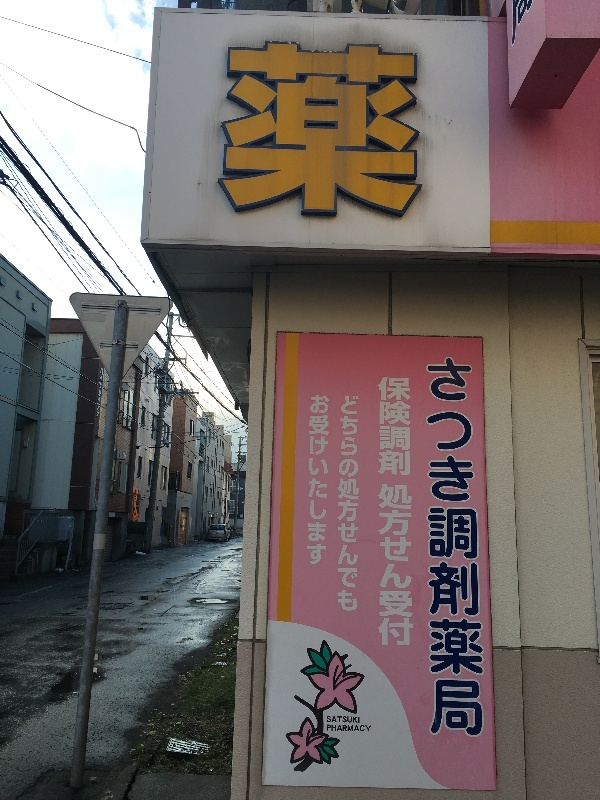text: (385, 377, 400, 648), (401, 377, 413, 648), (225, 41, 240, 219), (241, 41, 256, 219), (257, 41, 272, 219), (273, 41, 288, 219), (289, 41, 304, 219), (305, 41, 320, 219), (321, 41, 336, 219), (337, 41, 352, 219), (353, 41, 368, 219), (369, 41, 384, 219), (385, 41, 400, 219), (401, 41, 416, 219), (340, 396, 352, 613), (310, 394, 320, 565), (378, 377, 384, 648), (321, 394, 330, 565), (353, 396, 360, 613), (417, 41, 425, 219), (513, 1, 528, 46), (529, 1, 534, 46), (337, 717, 352, 724), (337, 725, 352, 732), (353, 725, 368, 732), (327, 717, 336, 724), (327, 725, 336, 732), (353, 717, 360, 724), (369, 725, 372, 732)
